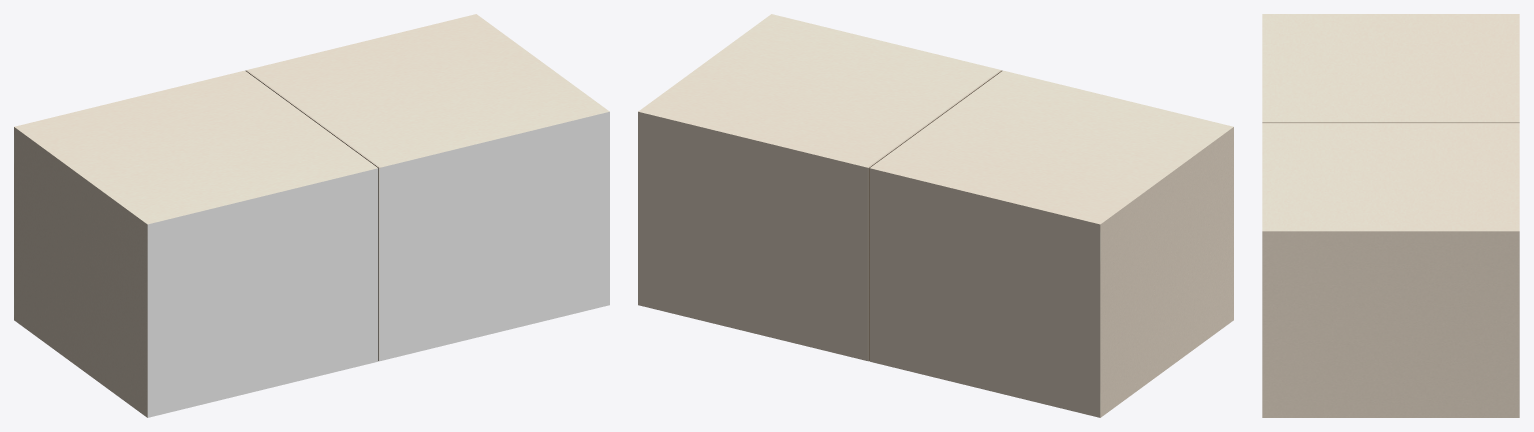
The model's file is FreezerComp.obj.
The picture shows the model from 3 angles, left to right: view 1: azimuth 30°, elevation 25°; view 2: azimuth 150°, elevation 25°; view 3: azimuth 270°, elevation 25°; orthographic projection. The views are drawn at different scales.
Visible parts, largest first — view 1: comp_Cube; view 2: comp_Cube; view 3: comp_Cube.
Part boxes in pixels (x1,y1,x2,y2): comp_Cube: [14, 14, 609, 417]; comp_Cube: [638, 14, 1233, 417]; comp_Cube: [1262, 14, 1519, 417].
Size of the model in its own units: 1 by 0.4052 by 0.5.
1 material, 1 textured.
